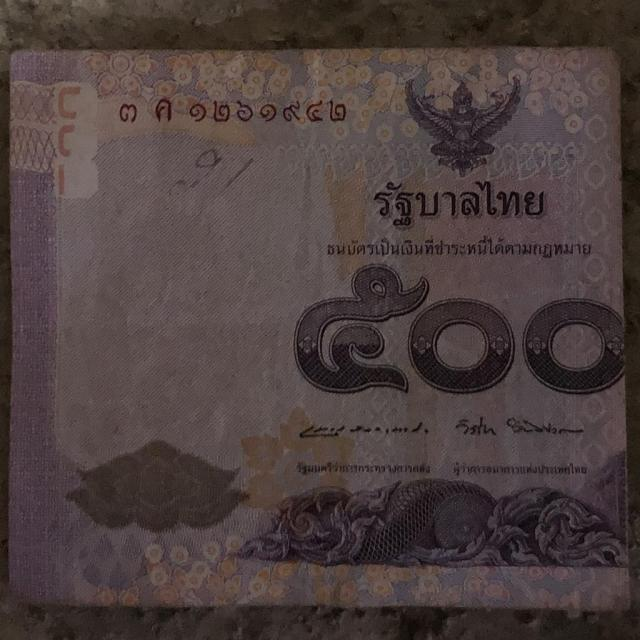THAI500: (3, 47, 633, 614)
